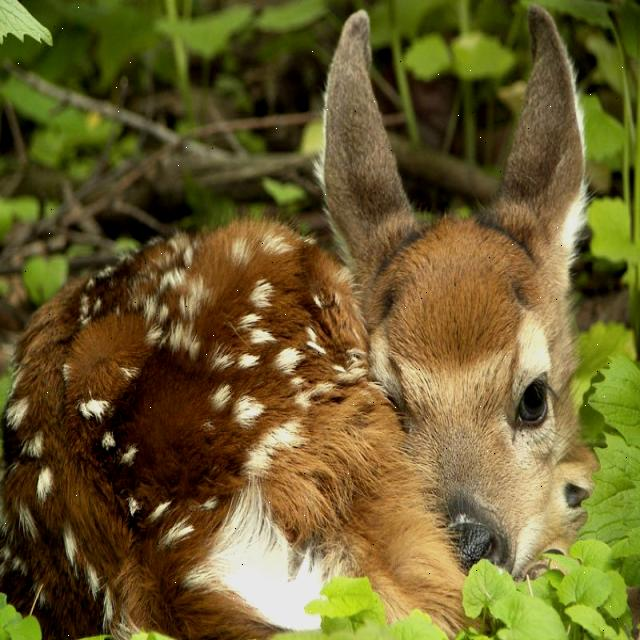deer: (290, 14, 607, 567)
